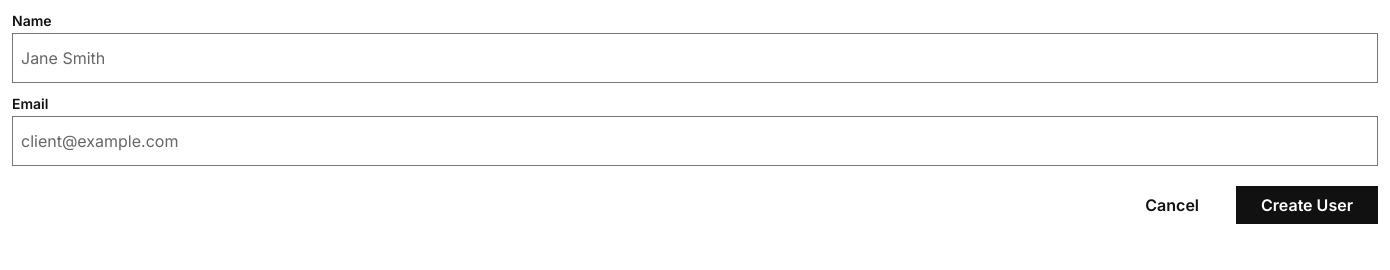
UserForm › create mode › surfaces a 409 conflict as an "already exists" error
Type "existing@example.com" into the field labelled "Email".
click(695, 141); type("existing@example.com")  # box [12,116,1378,166]
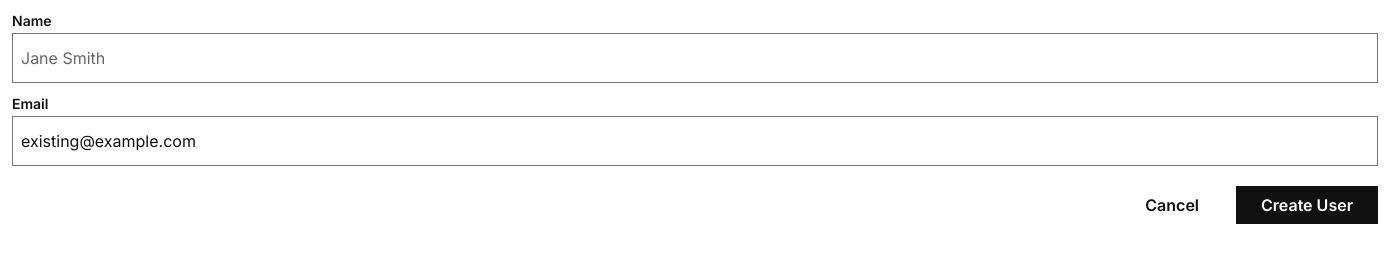
Click the button "Create User".
click(1307, 205)  # box [1236,186,1378,224]
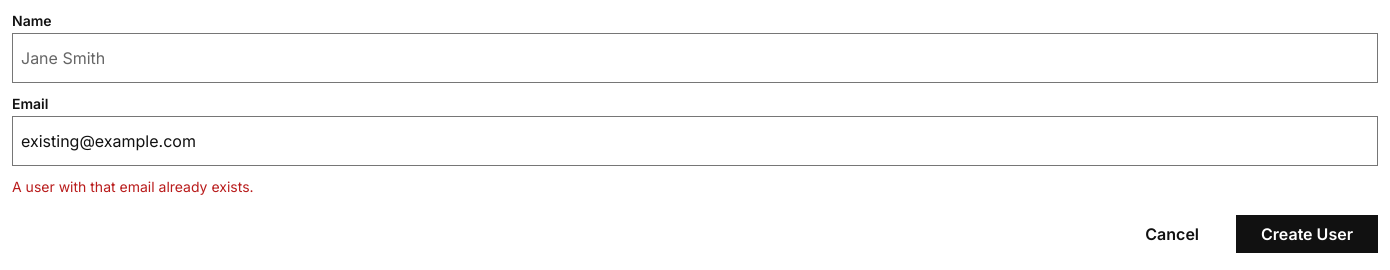
Expected: the message shows "already exists", [12,178,254,195]
